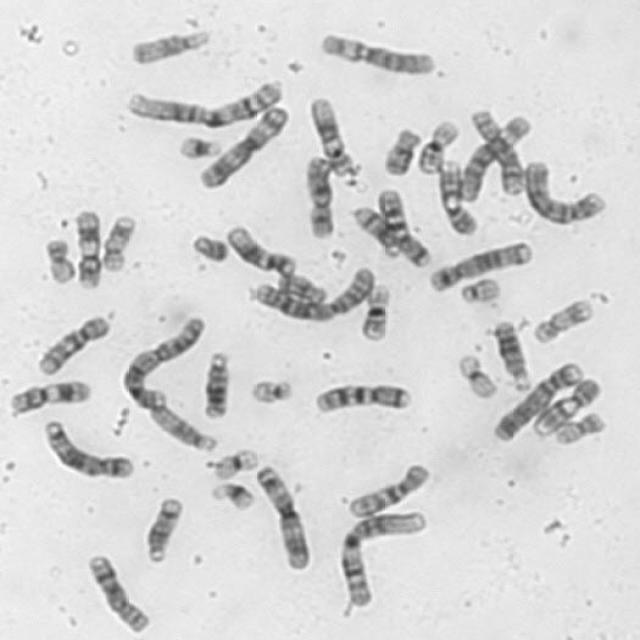A1: (336, 504, 430, 608), (121, 76, 285, 129)
A2: (117, 311, 206, 411), (246, 262, 378, 324)
A3: (194, 100, 291, 190), (251, 459, 312, 572)
B4: (488, 356, 586, 444), (520, 154, 610, 225)
B5: (38, 416, 138, 481), (426, 236, 536, 294)
C10: (32, 310, 112, 377), (344, 460, 432, 519)
C11: (5, 375, 94, 417), (68, 207, 104, 290)
C12: (306, 94, 357, 179), (222, 222, 299, 278)
C6: (458, 107, 530, 200), (316, 29, 438, 76)
C7: (372, 184, 431, 269), (310, 378, 413, 416)
C8: (82, 548, 154, 634), (466, 103, 525, 195)
C9: (530, 372, 604, 437), (434, 156, 479, 237)
D13: (488, 315, 532, 391), (199, 348, 233, 420)
D14: (347, 200, 405, 259), (140, 492, 184, 564)
D15: (144, 400, 218, 454), (125, 24, 214, 66)
E16: (411, 114, 461, 176), (356, 281, 392, 343)
E17: (529, 294, 596, 345), (99, 209, 139, 273)
E18: (378, 124, 422, 177), (274, 269, 329, 306)
F19: (454, 351, 498, 400), (207, 445, 261, 481)
F20: (550, 408, 608, 447), (40, 233, 77, 285)
G21: (174, 130, 224, 161), (207, 479, 255, 511)
G22: (456, 272, 502, 306), (246, 376, 294, 406)
X: (301, 154, 334, 239)
Y: (188, 230, 229, 263)
